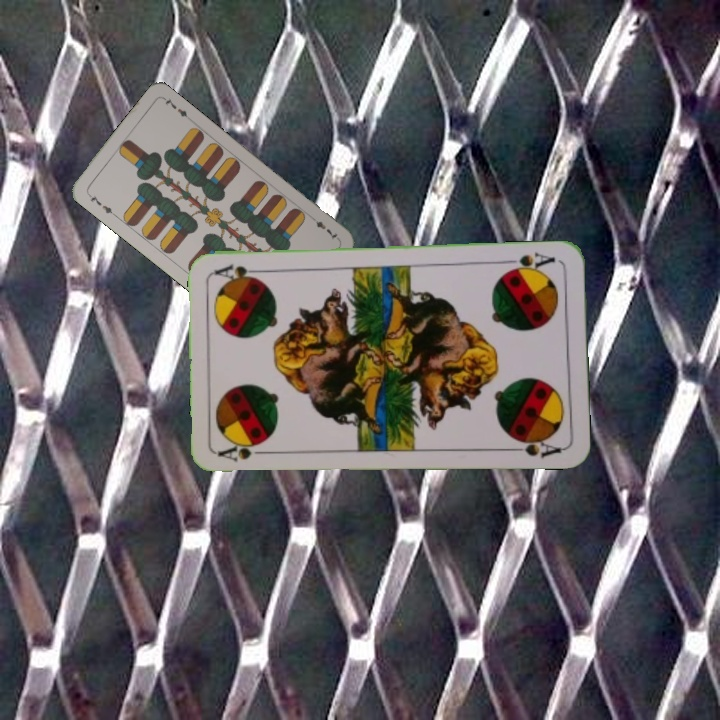E7: (306, 212, 340, 243), (83, 189, 118, 219)
SA: (502, 248, 558, 275), (215, 439, 274, 464)
